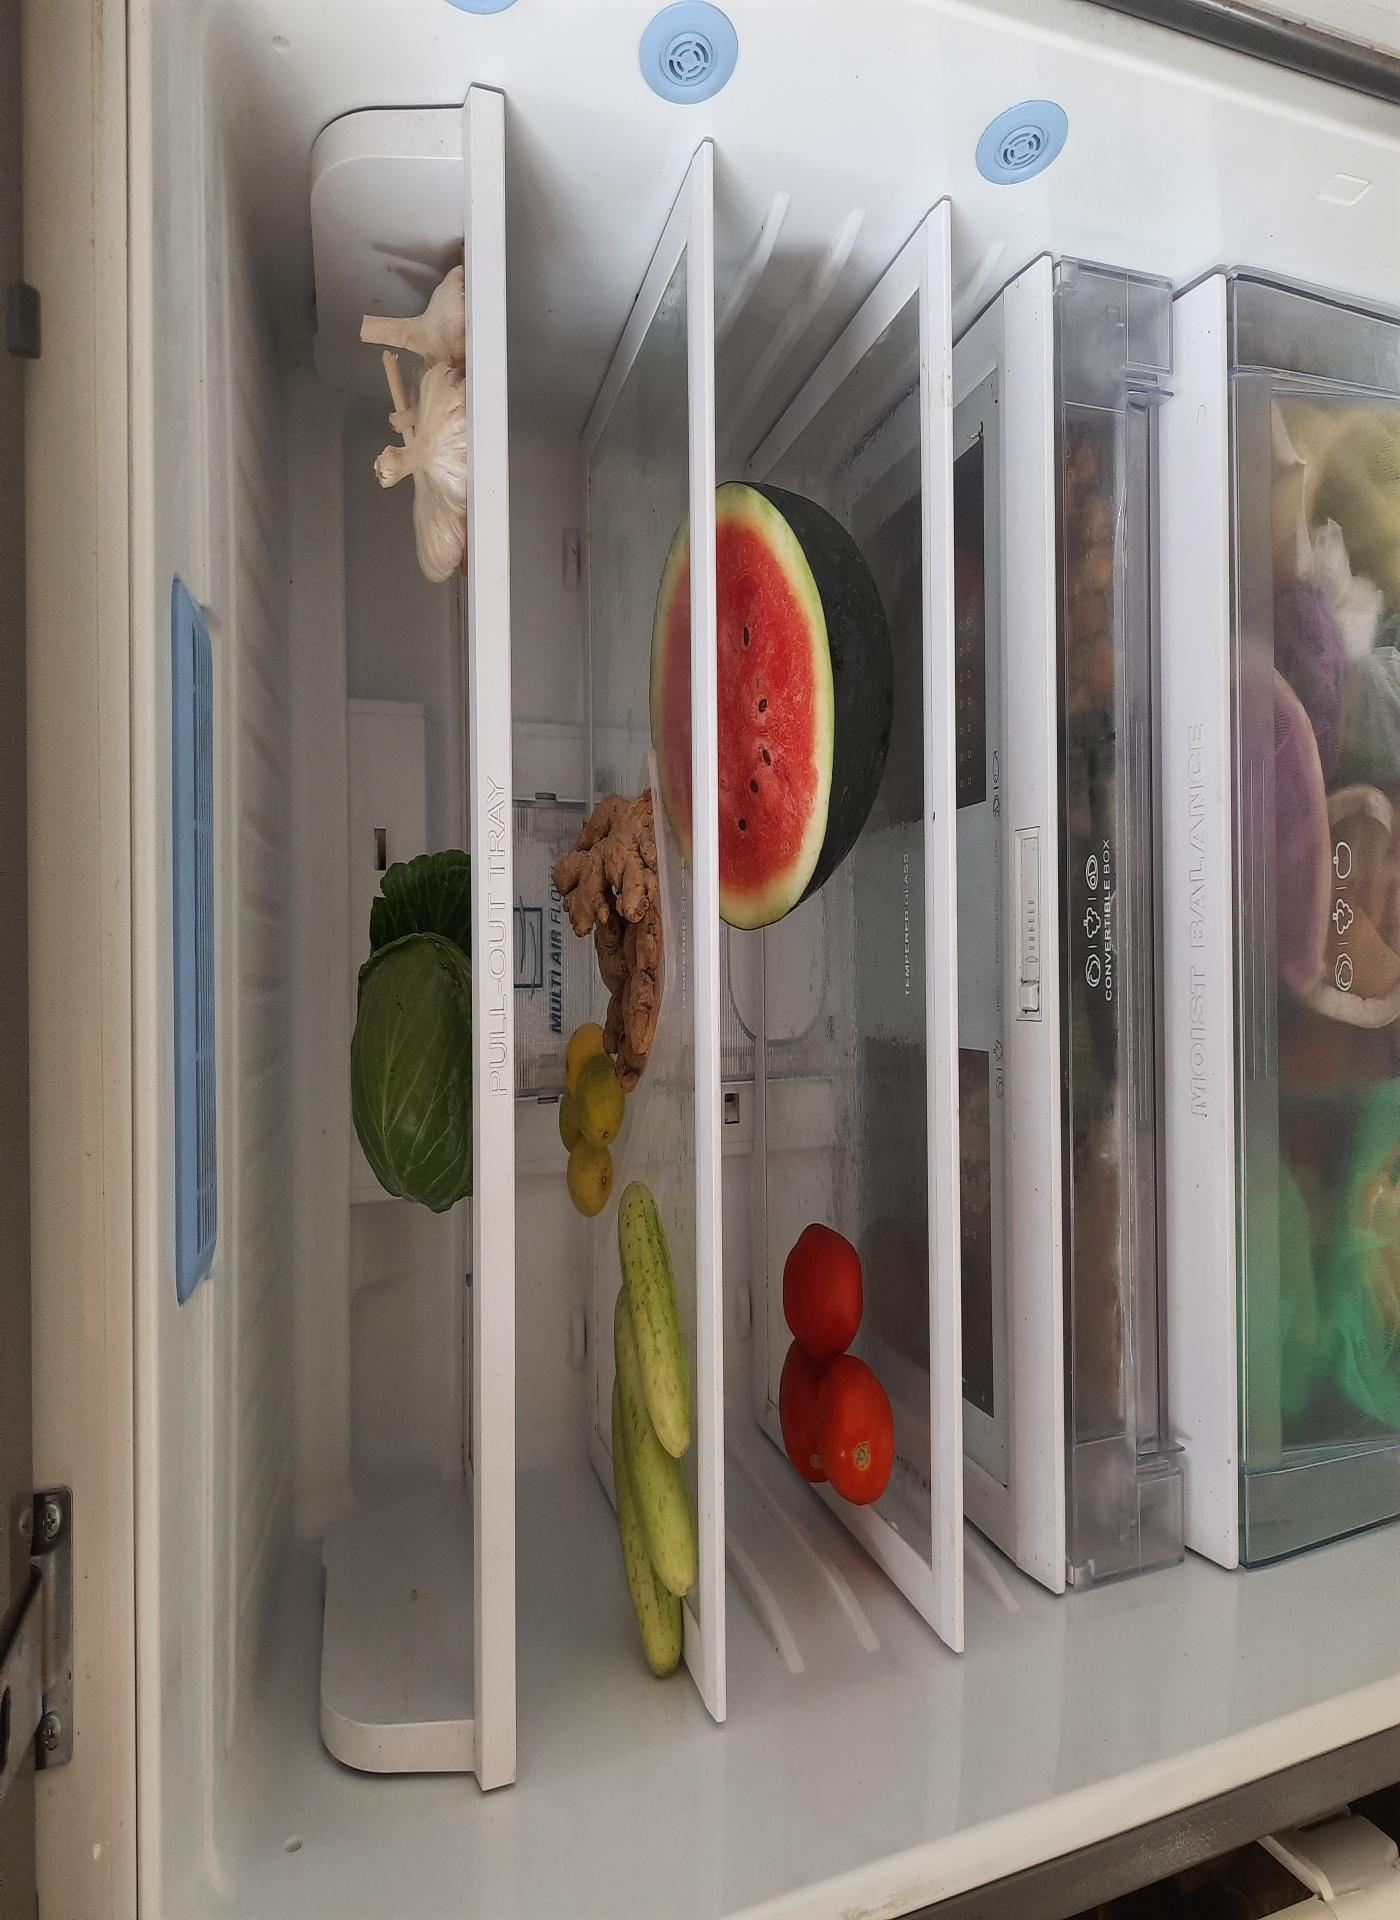cabbage: (388, 632, 584, 851)
cucumber: (133, 1111, 401, 1257)
garlic: (720, 631, 935, 880)
ginger: (464, 1018, 620, 1207)
lemon: (388, 1020, 491, 1146)
tomato: (233, 1413, 386, 1632)
watermelon: (546, 1184, 795, 1634)
